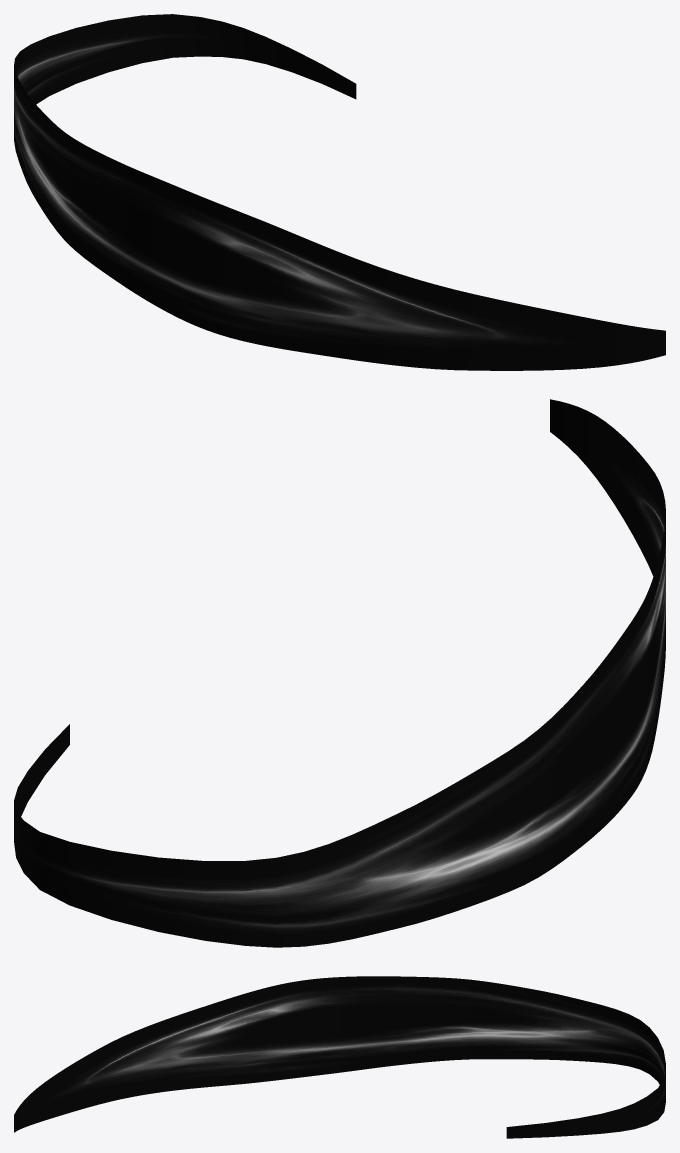
The model's file is 0053_HT_FX_Mesh_DuFenE_002.glb.
3 views of the same model, one above another, from view 1: azimuth 30°, elevation 25°; view 2: azimuth 150°, elevation 25°; view 3: azimuth 270°, elevation 25° (orthographic). The views are drawn at different scales.
Size of the model in its own units: 0.9076 by 0.3608 by 2.2.
Materials: 1 (1 with a texture image).
